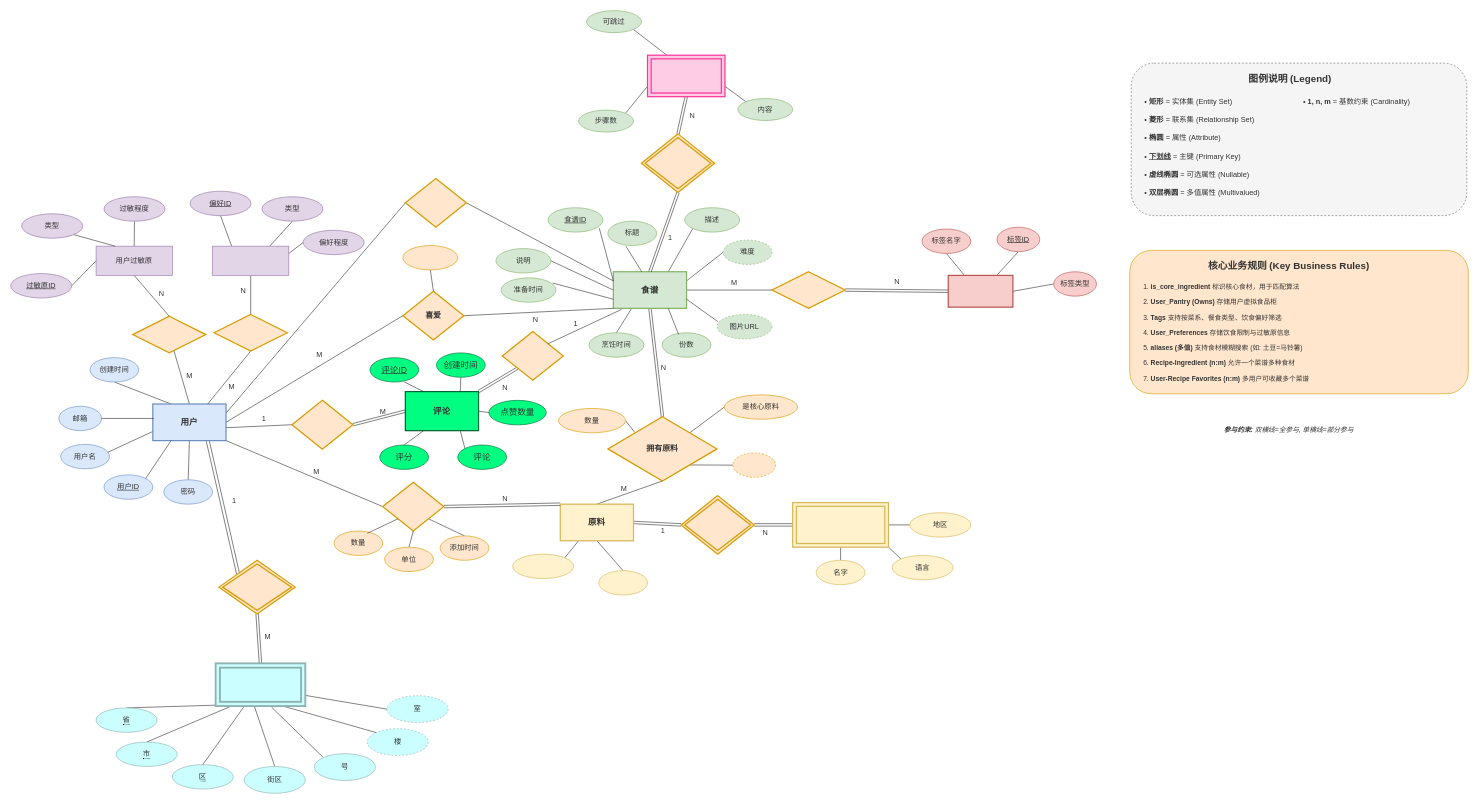
This 1479x804 diagram has some shape labels left out. Here are the shapes that lost their labels. From the top down, the centre of each, then its label:
At point 686,75: "步骤".
At point 677,163: "拥有步骤".
At point 435,203: "收藏".
At point 250,260: "用户偏好".
At point 430,257: "喜爱时间".
At point 808,290: "拥有标签".
At point 980,290: "标签".
At point 169,334: "有过敏原".
At point 250,332: "有偏好".
At point 532,356: "拥有评论".
At point 322,424: "发布".
At point 754,464: "备注".
At point 413,506: "拥有".
At point 717,524: "具有名字".
At point 840,524: "原料名字".
At point 257,586: "所在".
At point 543,566: "原料ID".
At point 623,582: "分类".
At point 260,684: "用户地点".
